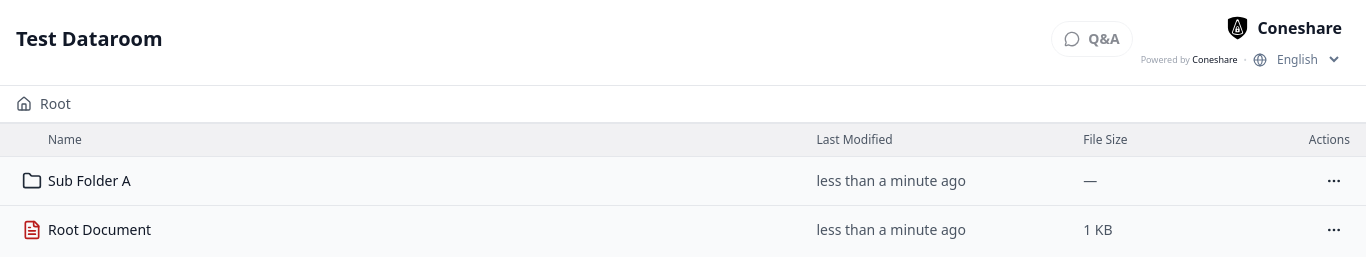
Test: DataroomViewer › navigates into a sub-folder and displays its contents
Expected: the text "Sub Folder Document" is not shown
Click on the sub-folder
What coordinates should you click on to do the following:
click the button titled "Sub Folder A"
I would click on:
 (89, 180)
Its box is [48,171,800,191].
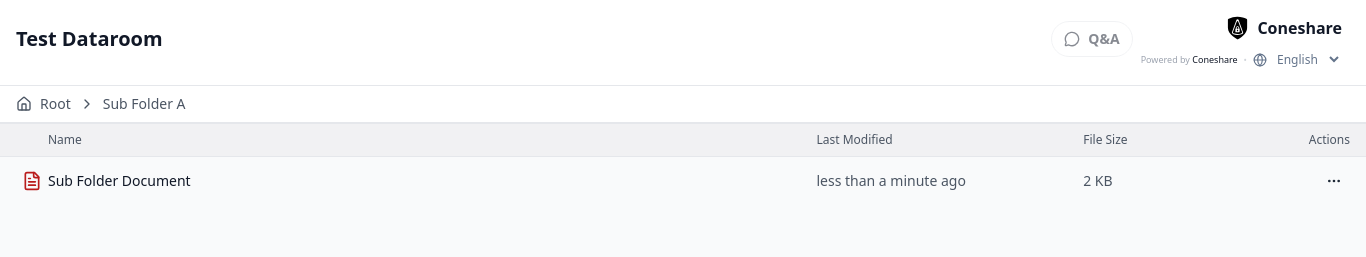
Expected: the button "Sub Folder Document" is shown, [48,171,800,191]
Expected: the button "Root Document" is gone
